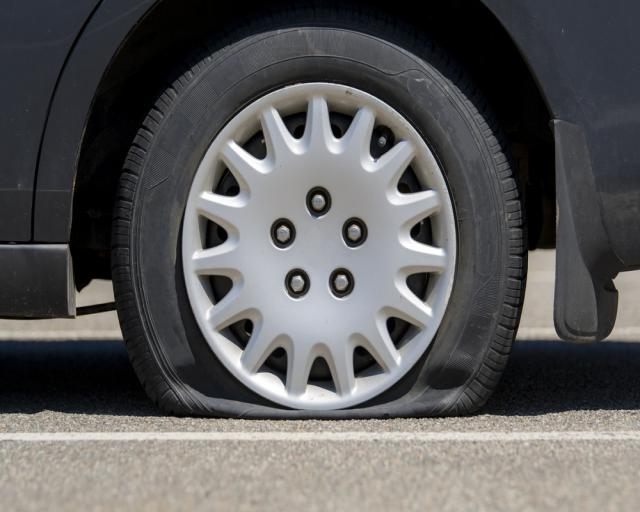tire flat: (109, 0, 530, 423)
